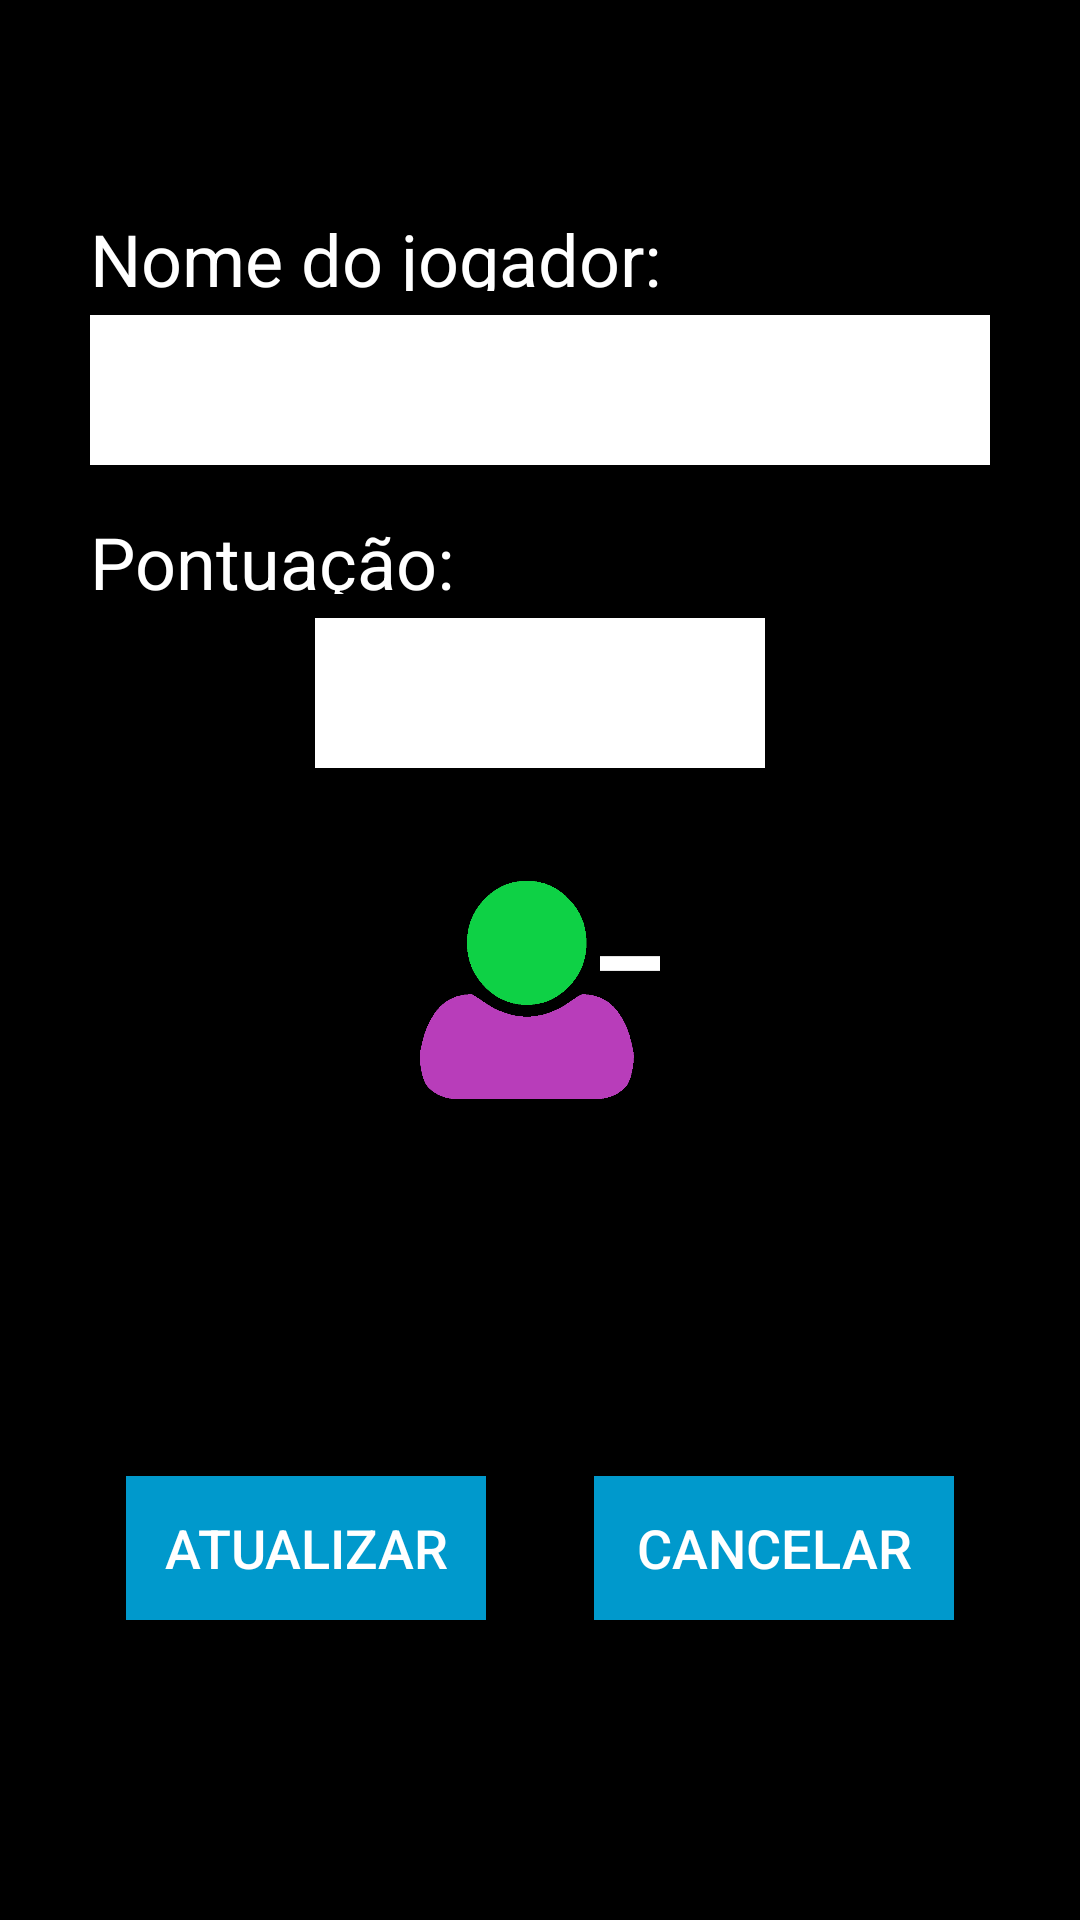

Locate icon controls on the screen. Image size 1080*1920, boxes as [x1=x1, y1=y1, x2=x2, y2=y2].
remover jogador: [x1=420, y1=881, x2=660, y2=1099]
